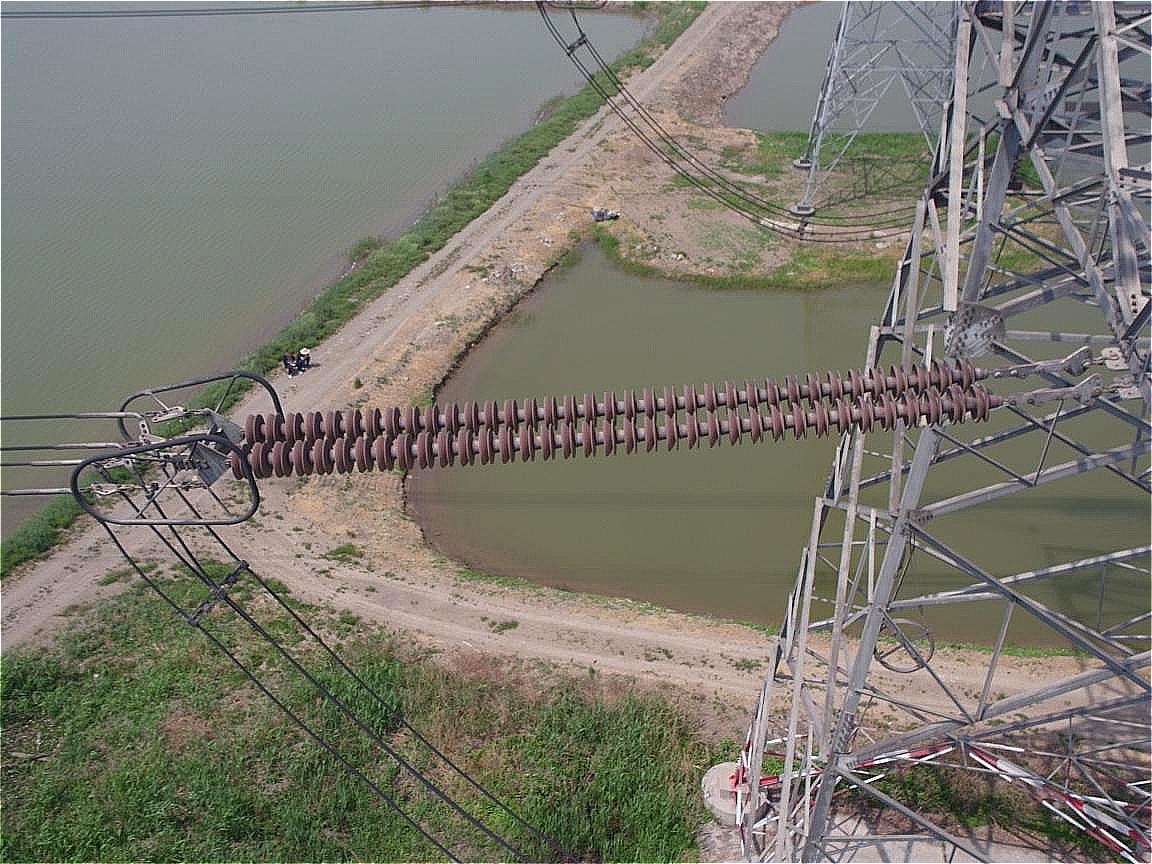insultor2: (222, 346, 1010, 501)
